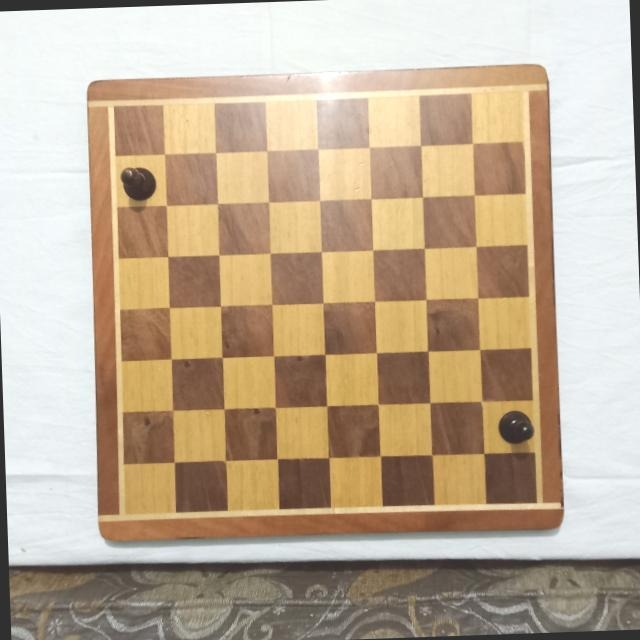black-pawn: (496, 408, 535, 445), (118, 162, 154, 202)
